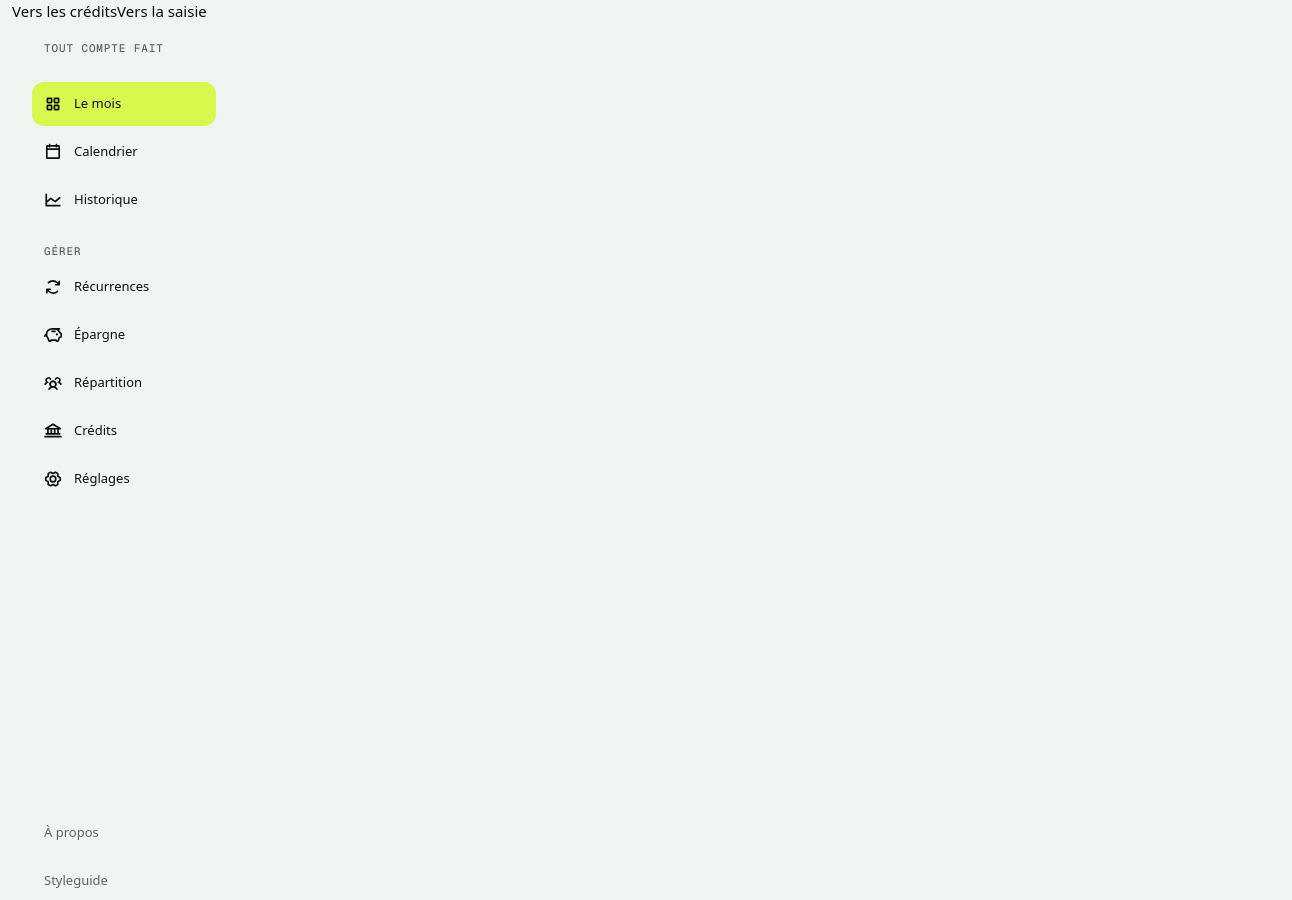
AppShell — le changement d’écran › dépose le focus sur le contenu en changeant d’écran
This screenshot has width=1292, height=900.
Step 1. Click the link "Vers les crédits" → (65, 11), box [12,1,117,21]
(page scrolled)
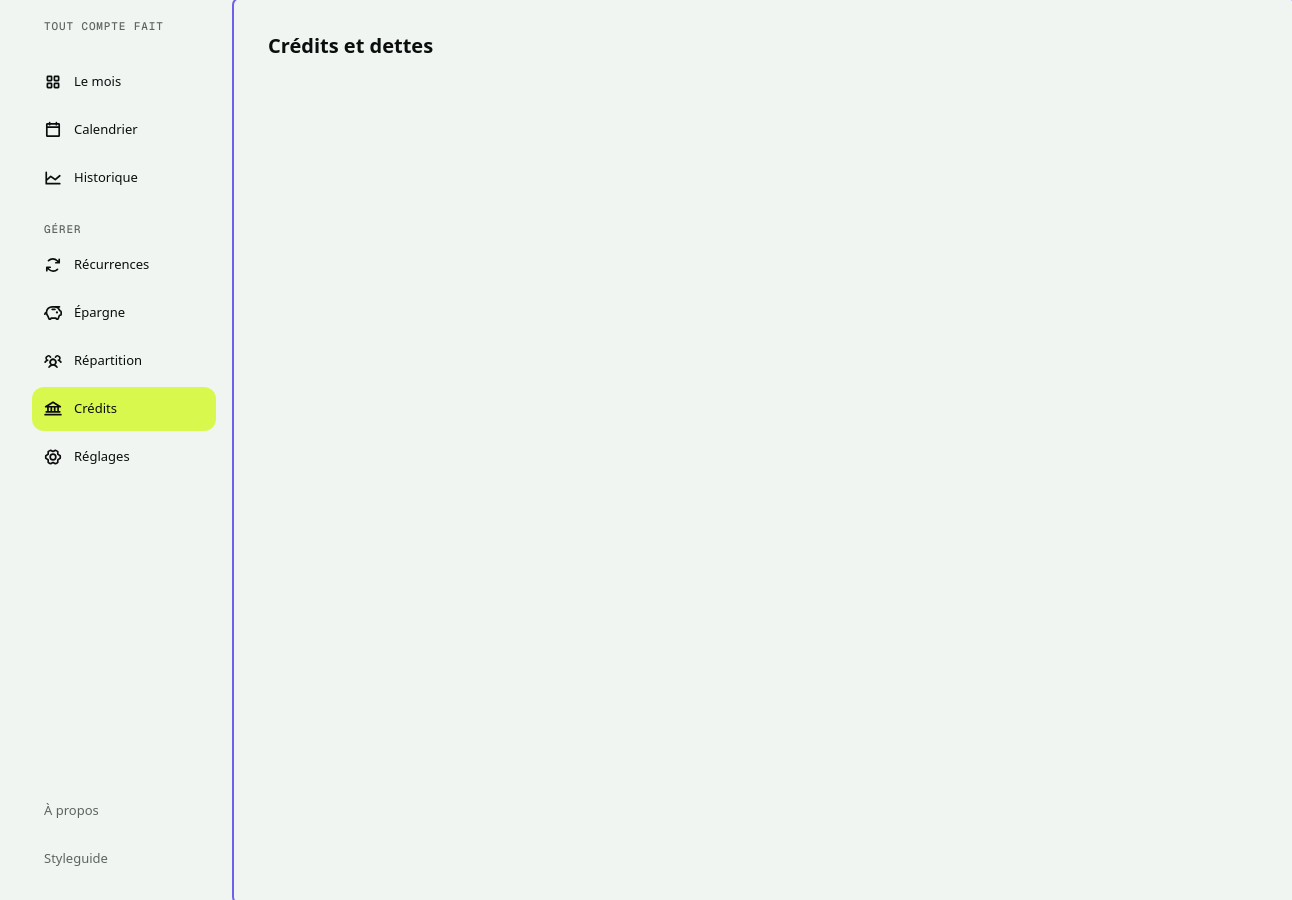
Expected: the heading reads "Crédits et dettes", [268,32,433,58]
